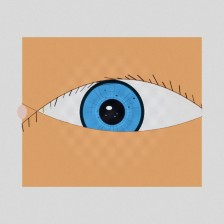pinguecula_lesion: (21, 96, 55, 124)
